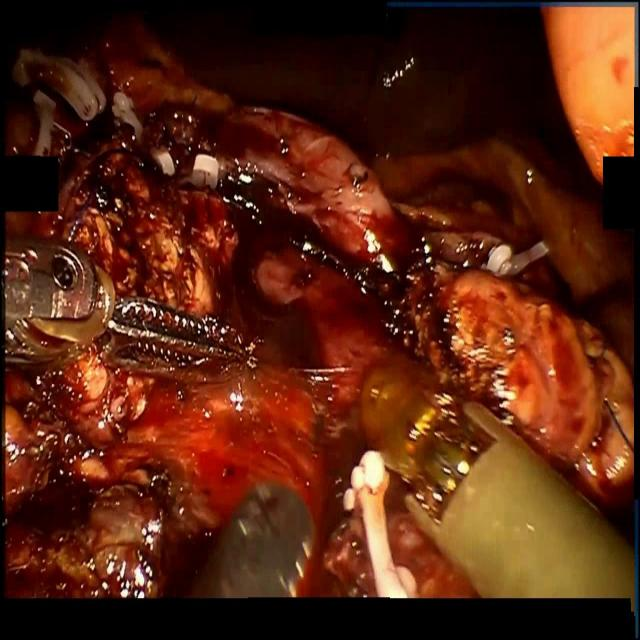surgical-area: (0, 6, 634, 598)
surgical-tool: (355, 357, 636, 598), (2, 229, 253, 382)
